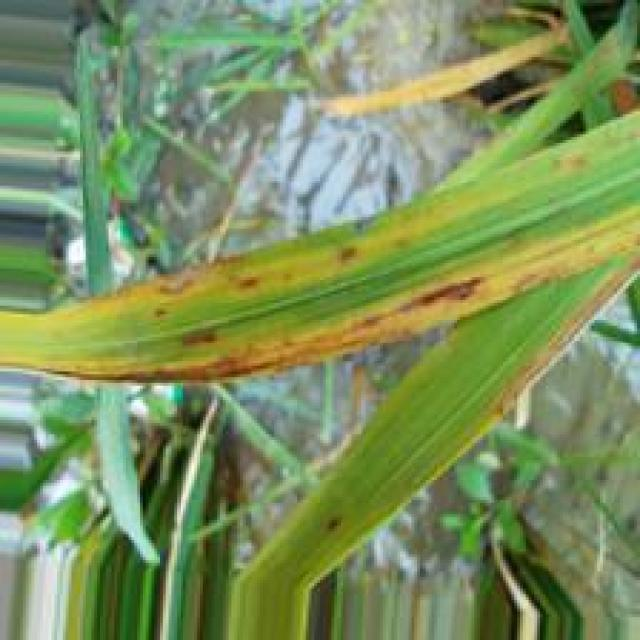Narrow_Brown_Leaf_Spot: (3, 202, 640, 441), (6, 138, 602, 330)
